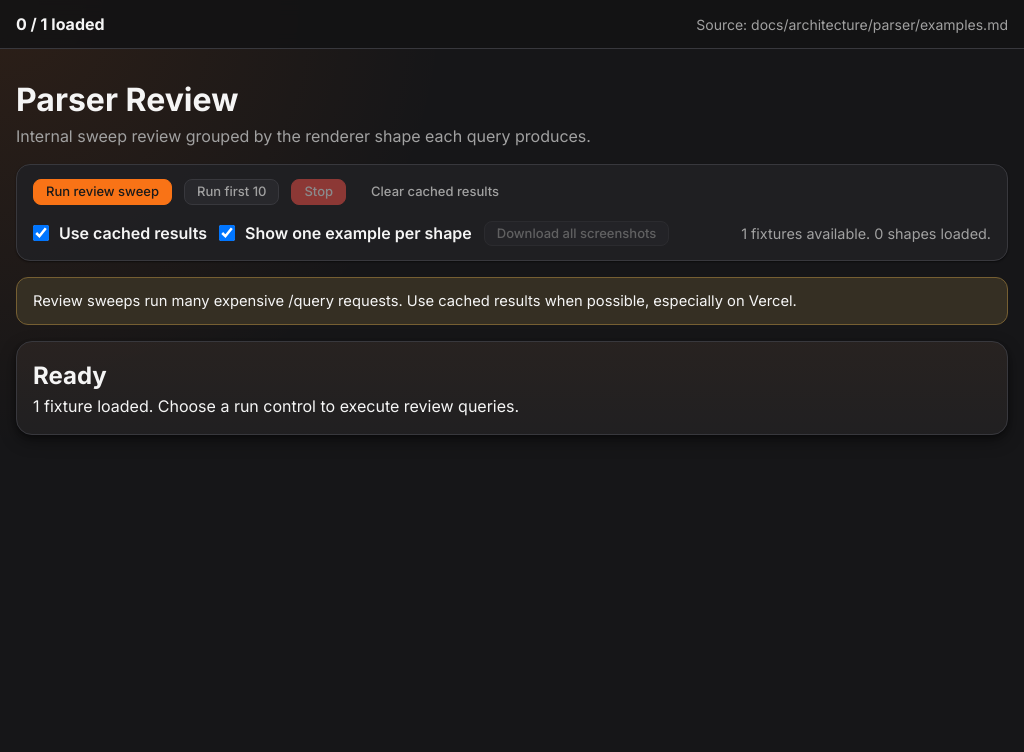
Test: ReviewPage › renders the screenshot download button
Check: the text "0 / 1 loaded" is shown, box 16,12 -> 105,36
Click the button "Run review sweep": (102, 192) 33,179 -> 172,205
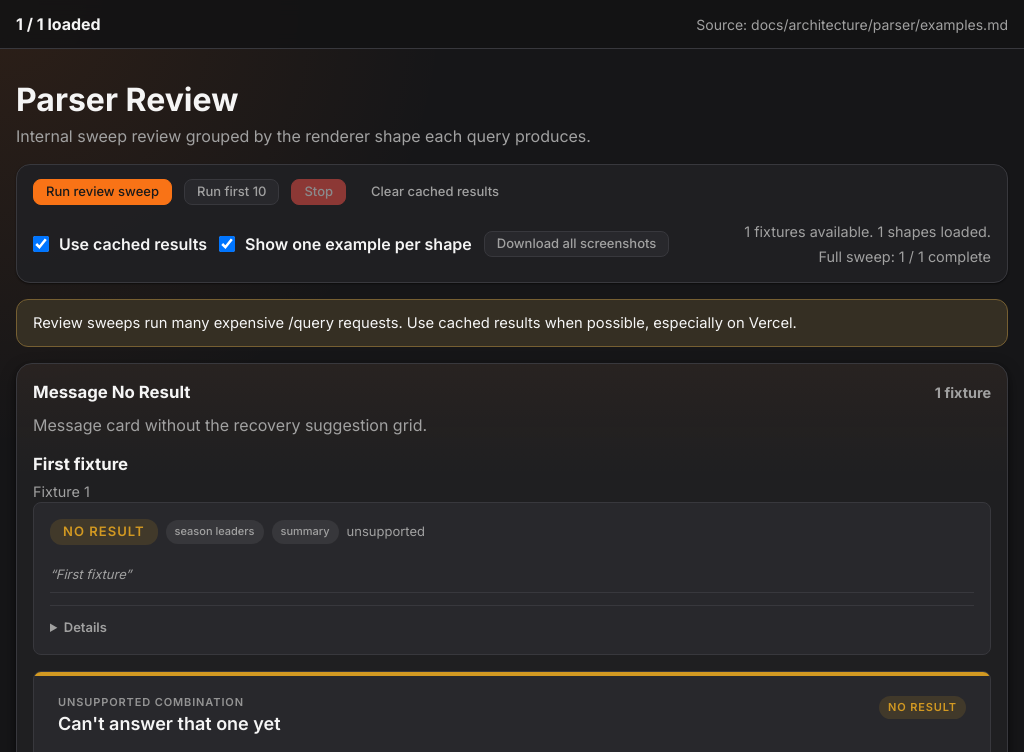
Check: the button "Download all screenshots" is shown, box 484,231 -> 669,257
Check: the text "1 / 1 loaded" is shown, box 16,12 -> 101,36
